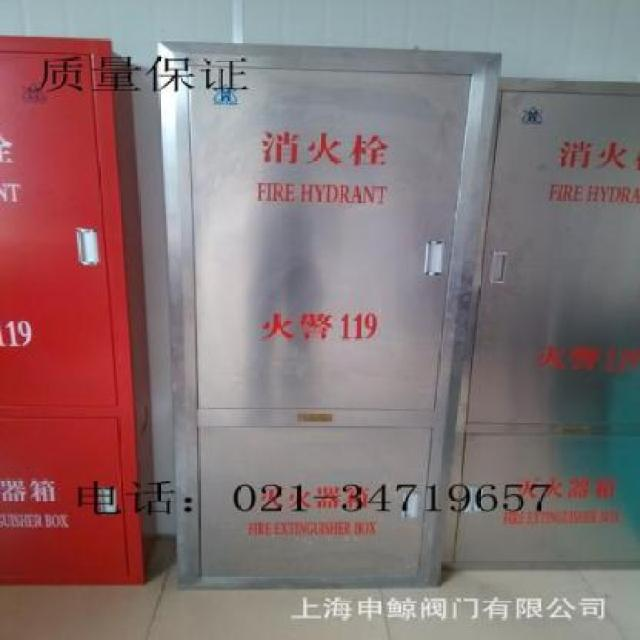firehydrant: (149, 38, 506, 596), (444, 70, 640, 574), (3, 32, 157, 592)
